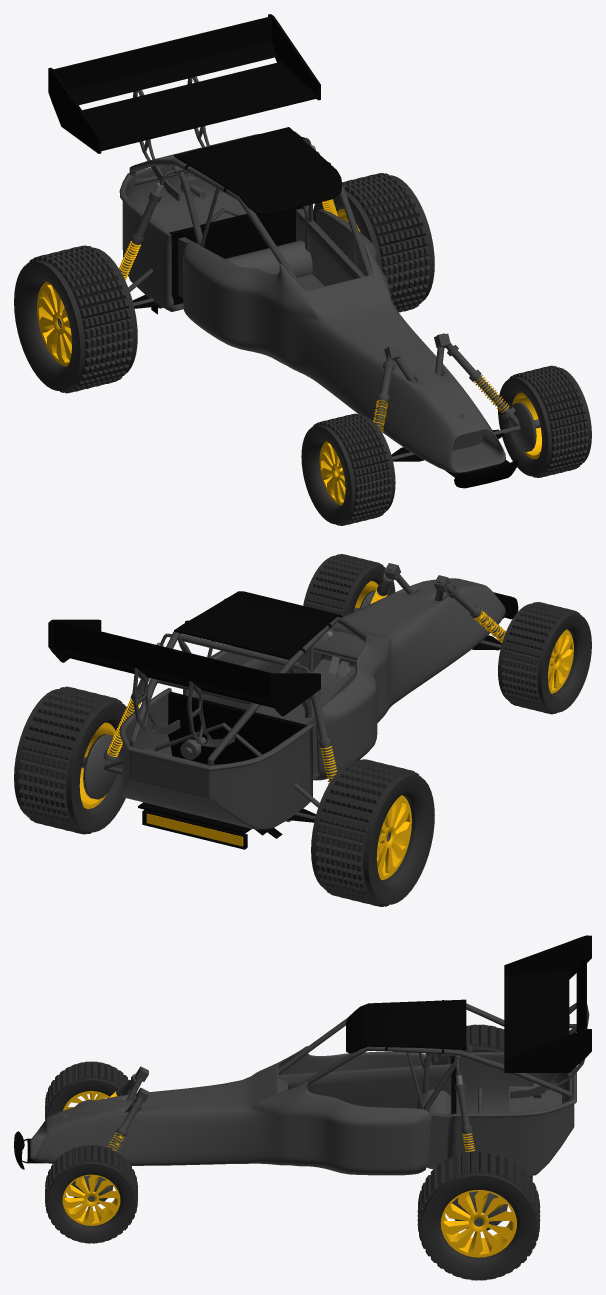
File: jetracer.fbx
The picture shows the model from 3 angles, top to bottom: view 1: azimuth 30°, elevation 25°; view 2: azimuth 150°, elevation 25°; view 3: azimuth 270°, elevation 25°; orthographic projection. The views are drawn at different scales.
Visible parts, largest first — view 1: pCube21, pCube3, pPipe4, pCube19, pPipe1, pPipe2, pPipe3, pCube5, pCube7, pCube13, pCube11, pCylinder1 (+9 smaller); view 2: pCube21, pCube5, pPipe4, pPipe1, pCube3, pPipe2, pCube7, pCube19, pCube13, pPipe3, pCube11, pCylinder1 (+9 smaller); view 3: pCube21, pCube3, pPipe1, pCube5, pCube19, pCube13, pPipe3, pCylinder62, pCube11, pPipe2, pCylinder59, pPipe4 (+8 smaller).
Boxes of the visible parts, x1,y1,x2,y2 form: pCube21: (183,209,505,473); pCube3: (48,14,320,153); pPipe4: (14,245,137,393); pCube19: (174,127,342,215); pPipe1: (313,173,434,312); pPipe2: (301,413,395,525); pPipe3: (498,365,591,477); pCube5: (119,165,312,311); pCube7: (151,206,303,314); pCube13: (178,208,365,298); pCube11: (129,131,372,288); pCylinder1: (37,281,71,366); pCube21: (183,578,505,780); pCube5: (119,688,315,829); pPipe4: (311,759,434,906); pPipe1: (14,686,126,834); pCube3: (48,619,320,716); pPipe2: (498,602,591,714); pCube7: (138,691,307,849); pCube19: (174,591,342,659); pCube13: (185,631,365,775); pPipe3: (303,554,395,616); pCube11: (129,615,365,765); pCylinder1: (376,795,411,879); pCube21: (30,1046,431,1175); pCube3: (504,935,591,1072); pPipe1: (417,1151,540,1280); pCube5: (447,1052,576,1176); pCube19: (346,999,466,1053); pCube13: (278,1064,451,1165); pPipe3: (45,1145,137,1243); pCylinder62: (440,1190,516,1257); pCube11: (278,1003,572,1100); pPipe2: (45,1061,131,1119); pCylinder59: (62,1174,120,1225); pPipe4: (425,1024,504,1065).
Size of the model in its own units: 129 by 89.74 by 209.
